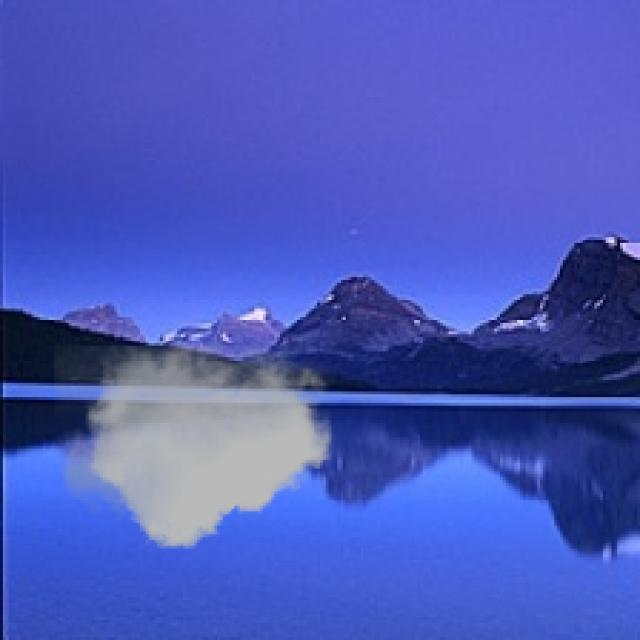Smoke: (54, 346, 337, 548)
